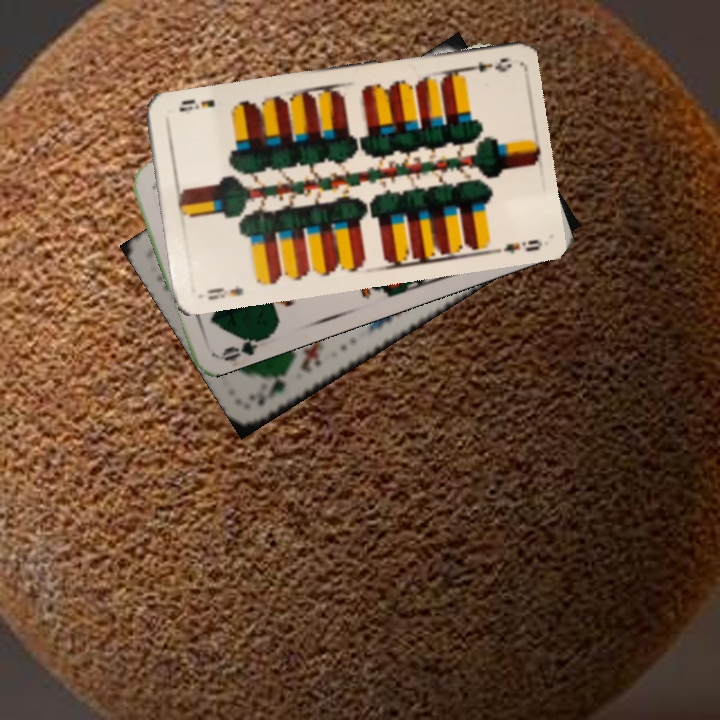E9: (455, 53, 514, 75), (202, 280, 246, 303)
GK: (245, 367, 294, 409)
GO: (217, 330, 273, 364)
